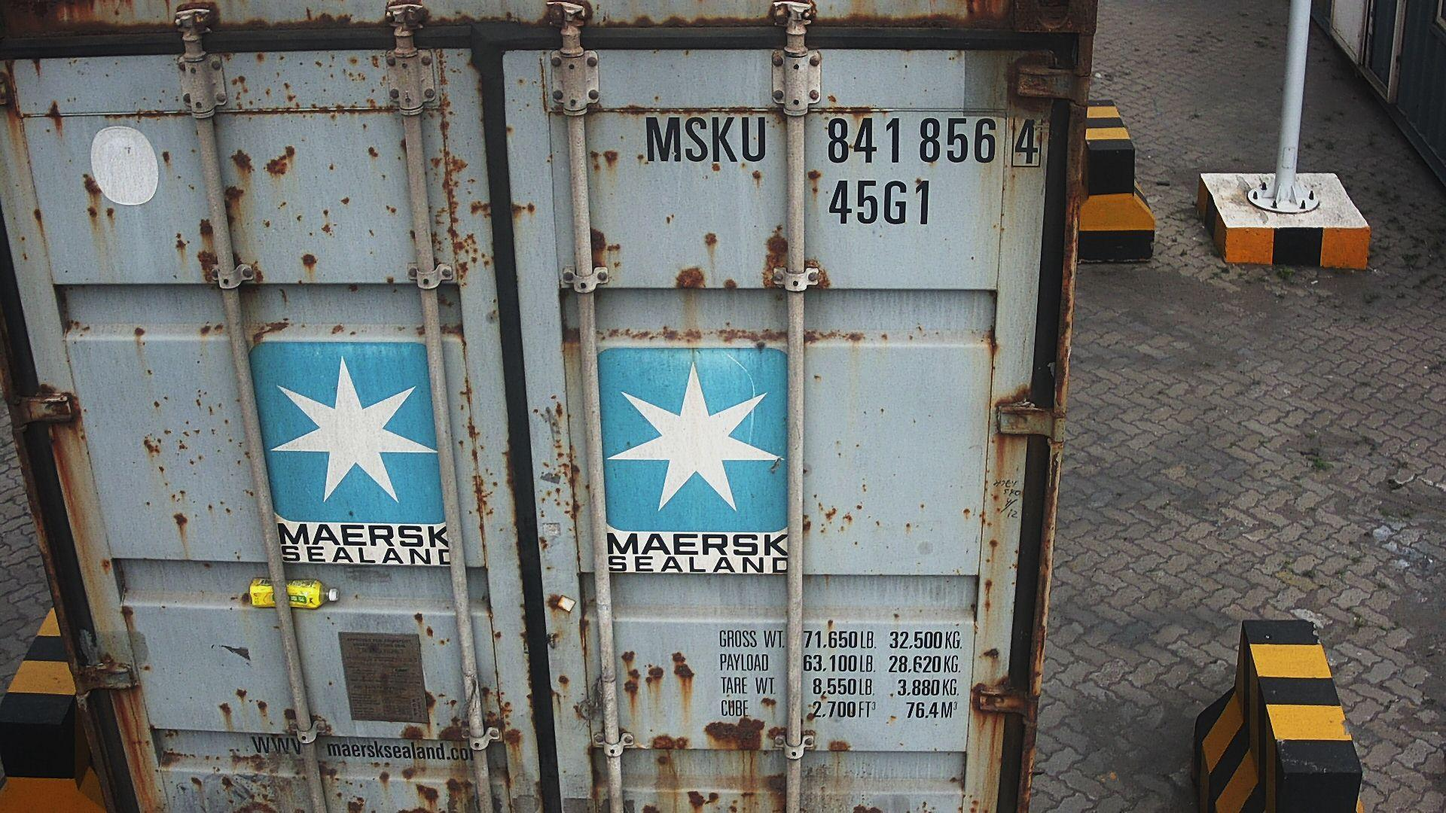container-numbers: (637, 111, 1055, 169), (825, 178, 937, 232)
